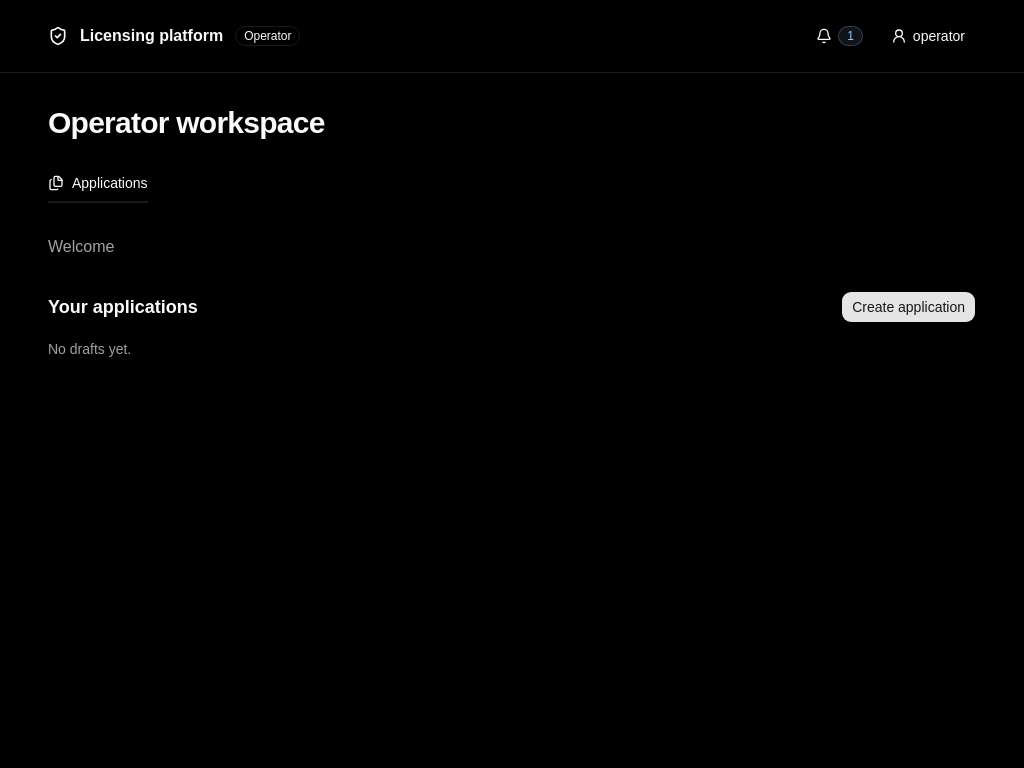
Scenario: notification bell shows unread count and updates after reading
Click the button named "Notifications, 1 unread" at (841, 36), box [807, 20, 874, 52]
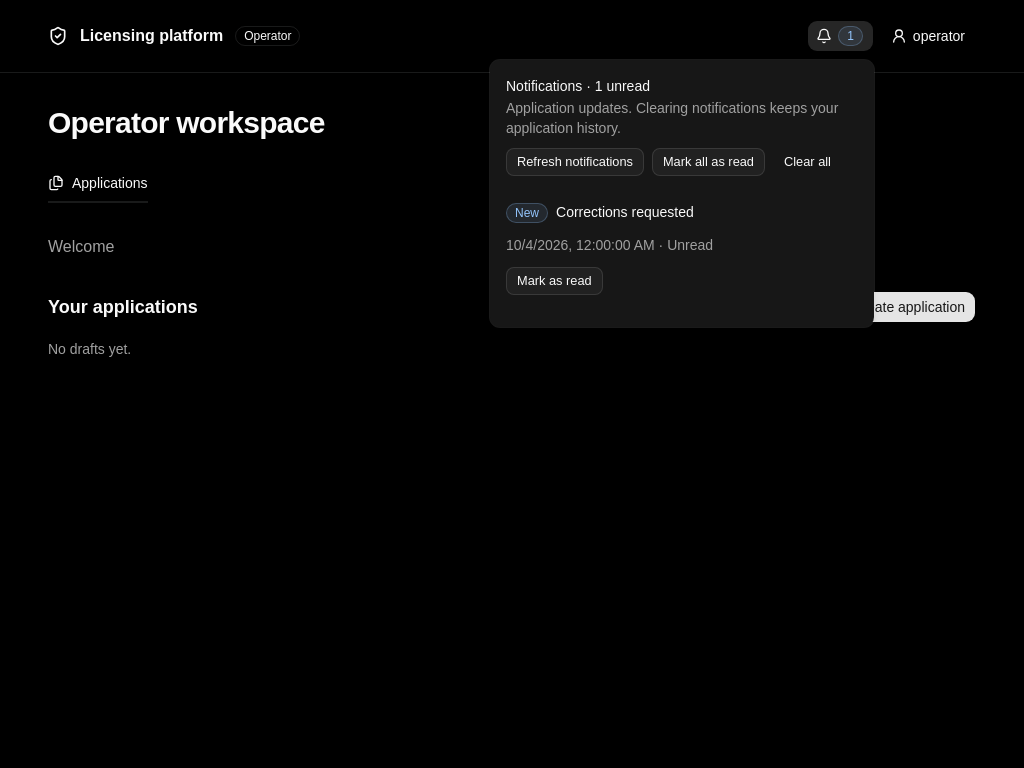
Now the text "Corrections requested" is shown, box [556, 204, 694, 220]
Click the button "Mark as read" at (554, 281), box [506, 267, 603, 295]
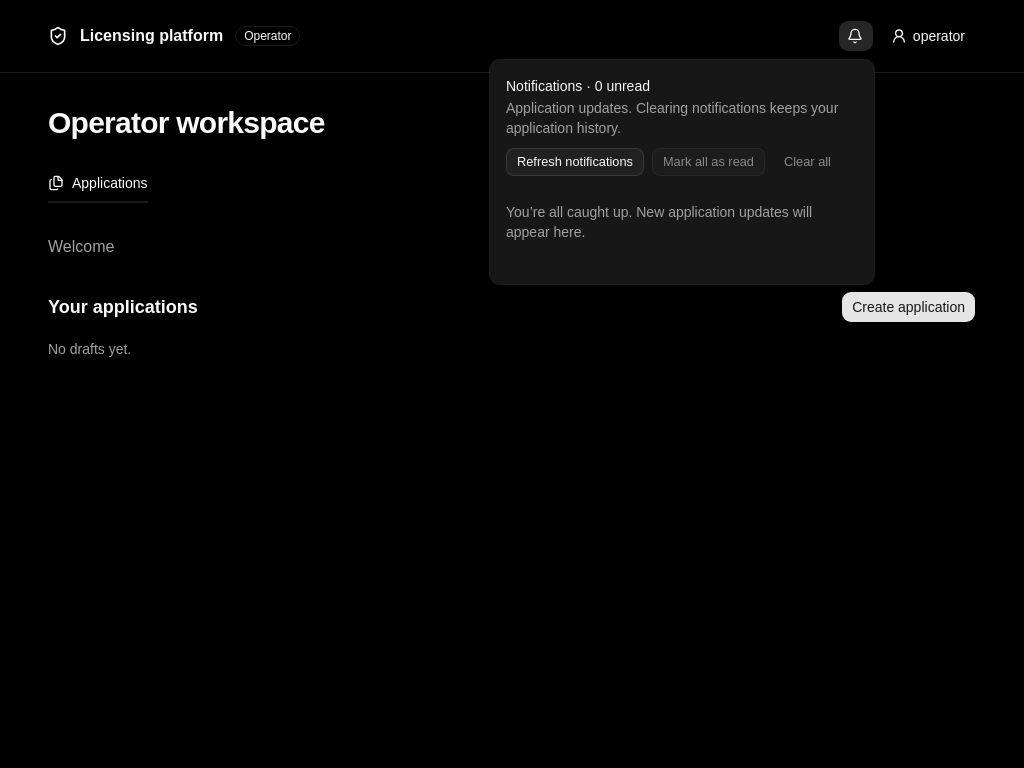
Now the button named "Notifications, 0 unread" is shown, box [838, 20, 874, 52]
